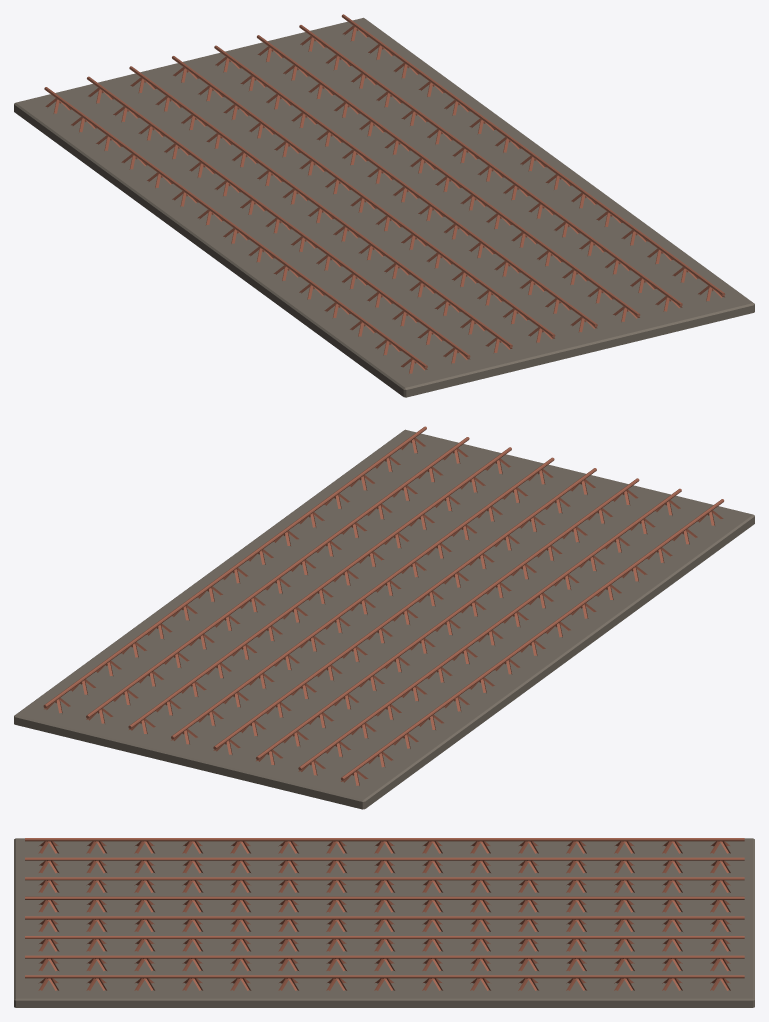
3 views of the same model, one above another, from view 1: azimuth 30°, elevation 25°; view 2: azimuth 150°, elevation 25°; view 3: azimuth 270°, elevation 25° (orthographic). The views are drawn at different scales.
Parts seen in each view (by area): view 1: Decke 5; view 2: Decke 5; view 3: Decke 5.
Boxes of the visible parts, x1,y1,x2,y2 form: Decke 5: (14, 14, 754, 397); Decke 5: (14, 426, 754, 809); Decke 5: (14, 838, 754, 1007).
Size of the model in its own units: 2.48 by 0.146 by 4.8.
